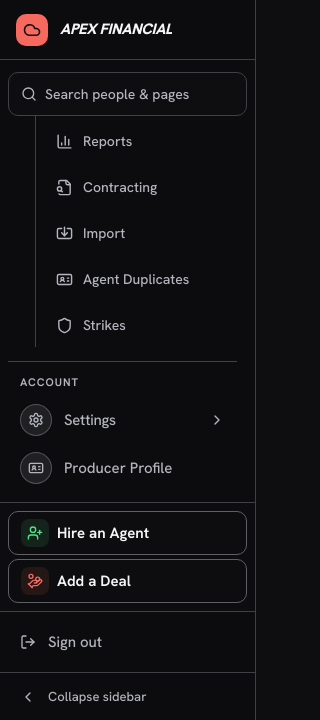
Test: GlobalSidebar · AgentCloud application navigation › keeps recruiting actions inside the Grow group
This screenshot has width=320, height=720.
Earlier steps of the test are not shown.
(page scrolled)
Click the button "Settings": (122, 420) [8, 398, 237, 442]
(page scrolled)
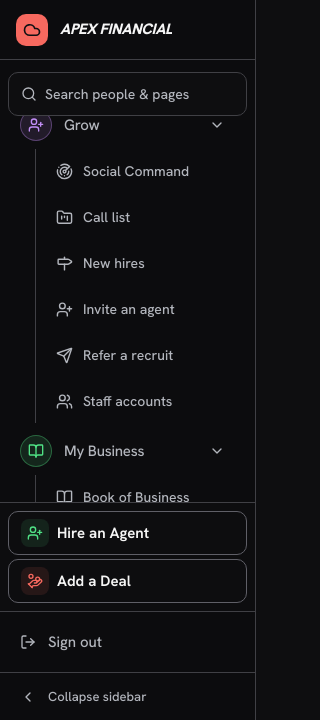
Expected: the link "Call list" has attribute href="/dashboard/recruiting", [56, 208, 130, 226]
Expected: the link "Invite an agent" has attribute href="/admin/invite-links", [56, 300, 175, 318]
